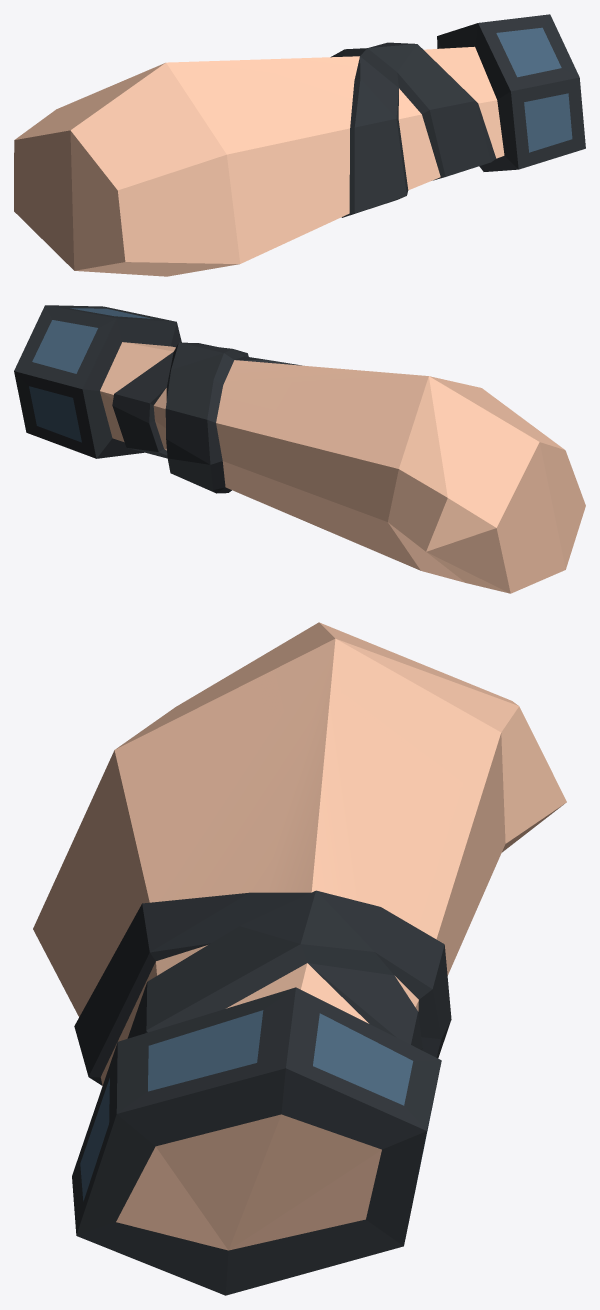
The model's file is Chr_ArmLowerLeft_Male_13_Static.fbx.
3 renders of one model, top to bottom at view 1: azimuth 30°, elevation 25°; view 2: azimuth 150°, elevation 25°; view 3: azimuth 270°, elevation 25°, orthographic. The views are drawn at different scales.
Visible parts, largest first — view 1: Chr_ArmLowerLeft_Male_13_Static; view 2: Chr_ArmLowerLeft_Male_13_Static; view 3: Chr_ArmLowerLeft_Male_13_Static.
Part boxes in pixels (x1,y1,x2,y2): Chr_ArmLowerLeft_Male_13_Static: [14, 14, 585, 276]; Chr_ArmLowerLeft_Male_13_Static: [14, 305, 585, 593]; Chr_ArmLowerLeft_Male_13_Static: [33, 622, 566, 1295].
Size of the model in its own units: 0.2896 by 0.1092 by 0.1371.
